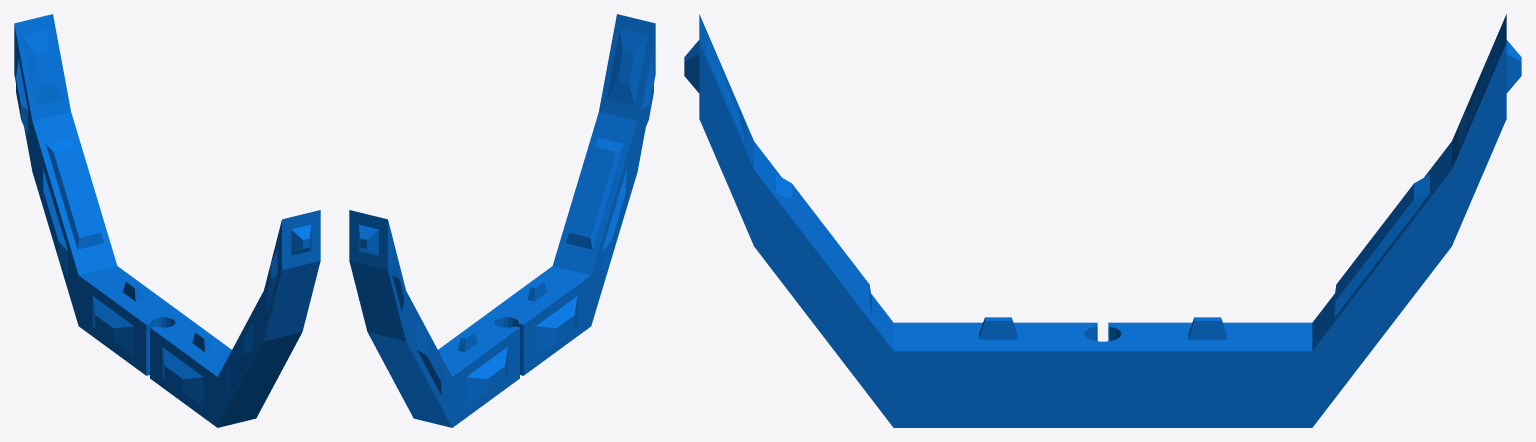
The model's file is Bow.fbx.
3 renders of one model, left to right at view 1: azimuth 30°, elevation 25°; view 2: azimuth 150°, elevation 25°; view 3: azimuth 270°, elevation 25°, orthographic. The views are drawn at different scales.
Parts seen in each view (by area): view 1: Bow; view 2: Bow; view 3: Bow.
Part boxes in pixels (x1,y1,x2,y2): Bow: (14, 14, 320, 427); Bow: (349, 14, 655, 427); Bow: (684, 14, 1521, 427).
Size of the model in its own units: 0.1196 by 0.6137 by 1.21.
